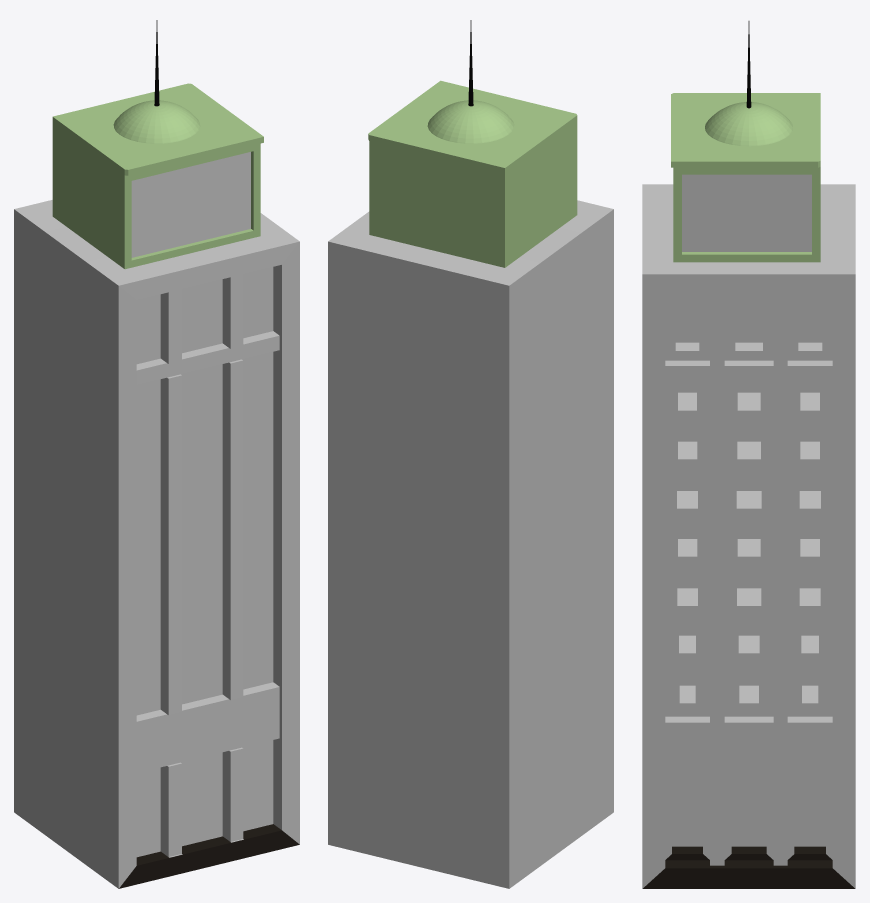
The model's file is touriut.obj.
3 renders of one model, left to right at view 1: azimuth 30°, elevation 25°; view 2: azimuth 150°, elevation 25°; view 3: azimuth 270°, elevation 25°, orthographic.
Parts seen in each view (by area): view 1: Cube, Cube.001, Sphère; view 2: Cube, Cube.001, Sphère; view 3: Cube, Cube.001, Logo-UP13-noirS, Sphère.
Part boxes in pixels (x1,y1,x2,y2): Cube: (14,200,299,888); Cube.001: (52,83,263,269); Sphère: (113,100,200,143); Cube: (328,200,613,888); Cube.001: (368,80,577,267); Sphère: (427,100,514,143); Cube: (642,184,855,888); Cube.001: (671,93,820,262); Logo-UP13-noirS: (696,174,801,251); Sphère: (705,102,792,146).
Bounding box in the file's own units: 2 × 8.59 × 2.
